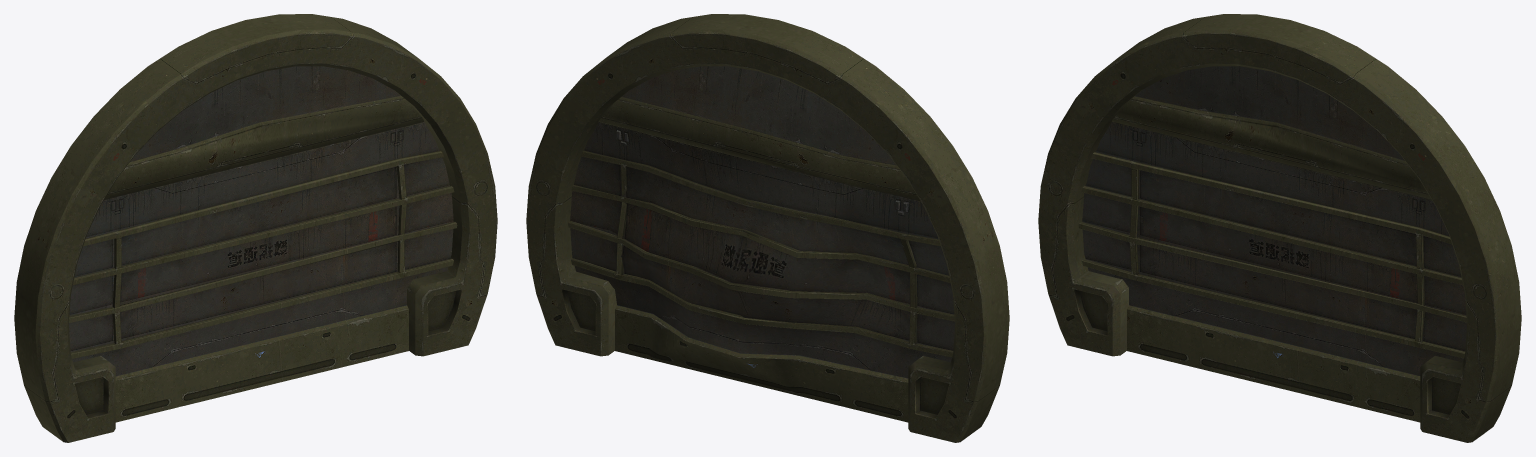
Rendered from slidedoor_data_tunnel_damaged_02.DAE.
3 renders of one model, left to right at view 1: azimuth 30°, elevation 25°; view 2: azimuth 150°, elevation 25°; view 3: azimuth 330°, elevation 25°, orthographic.
Parts seen in each view (by area): view 1: slidedoor_data_tunnel_damaged_02; view 2: slidedoor_data_tunnel_damaged_02; view 3: slidedoor_data_tunnel_damaged_02.
Part boxes in pixels (x1,y1,x2,y2): slidedoor_data_tunnel_damaged_02: (14, 14, 497, 442); slidedoor_data_tunnel_damaged_02: (526, 14, 1009, 442); slidedoor_data_tunnel_damaged_02: (1038, 14, 1521, 442).
Size of the model in its own units: 15.89 by 2.36 by 11.74.
